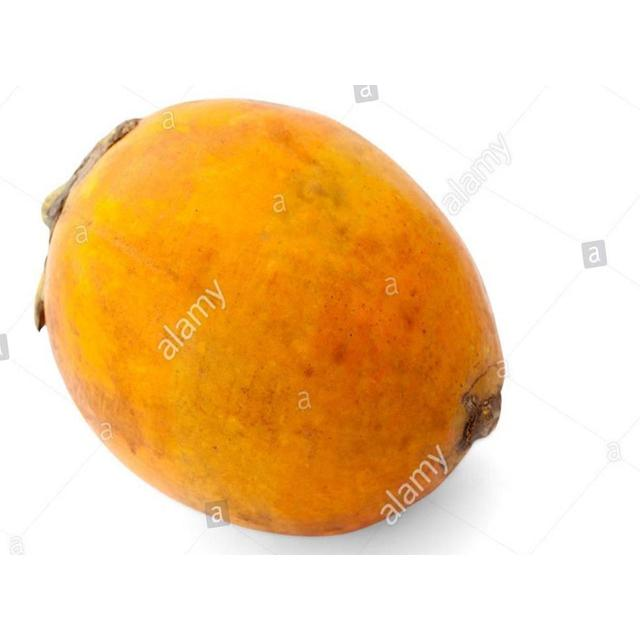good: (35, 98, 507, 539)
